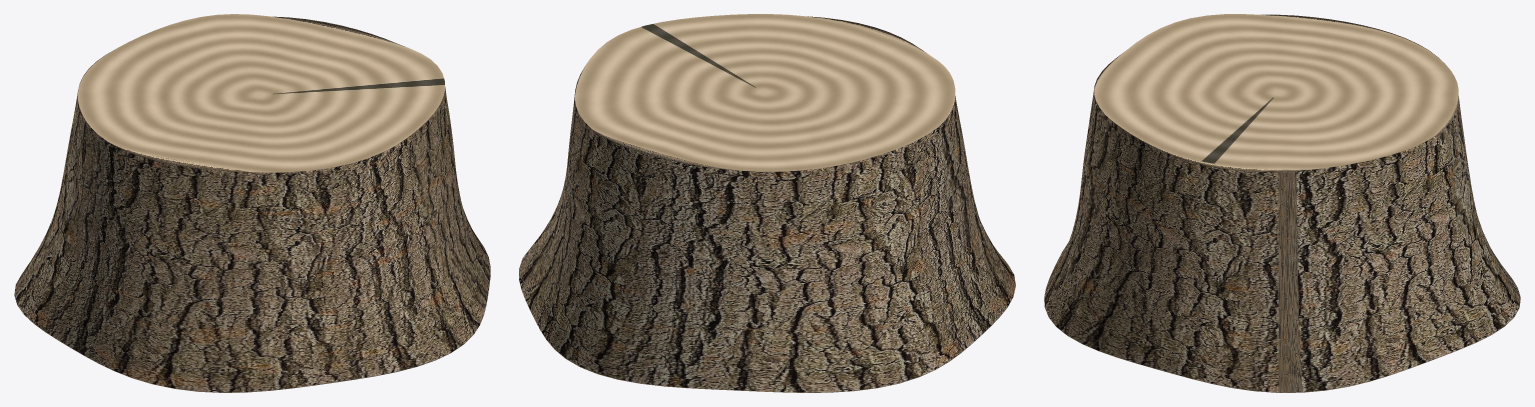
File: stump.gltf
3 renders of one model, left to right at view 1: azimuth 30°, elevation 25°; view 2: azimuth 150°, elevation 25°; view 3: azimuth 270°, elevation 25°, orthographic. The views are drawn at different scales.
Visible parts, largest first — view 1: stump; view 2: stump; view 3: stump.
Part boxes in pixels (bbox=[...]): stump: bbox=[14, 14, 490, 392]; stump: bbox=[519, 14, 1015, 392]; stump: bbox=[1044, 14, 1520, 392].
Bounding box in the file's own units: 0.9002 × 0.4138 × 0.8889.
1 material, 1 textured.
